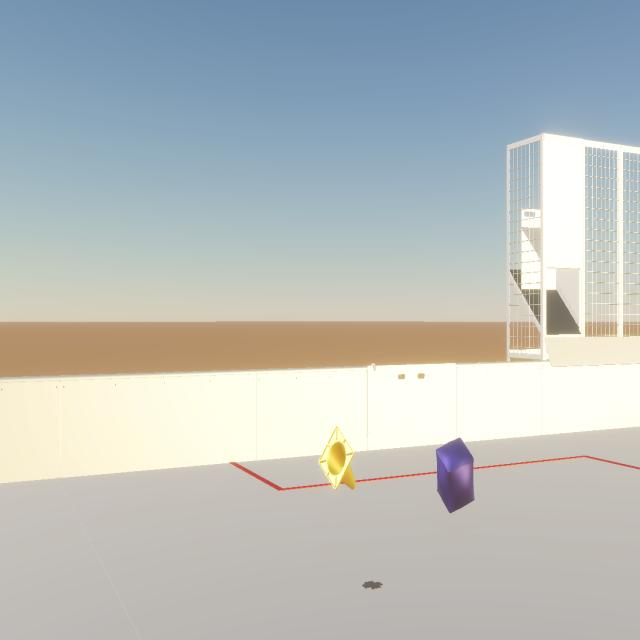frc_cone: (318, 426, 356, 490)
frc_cube: (436, 438, 474, 514)
